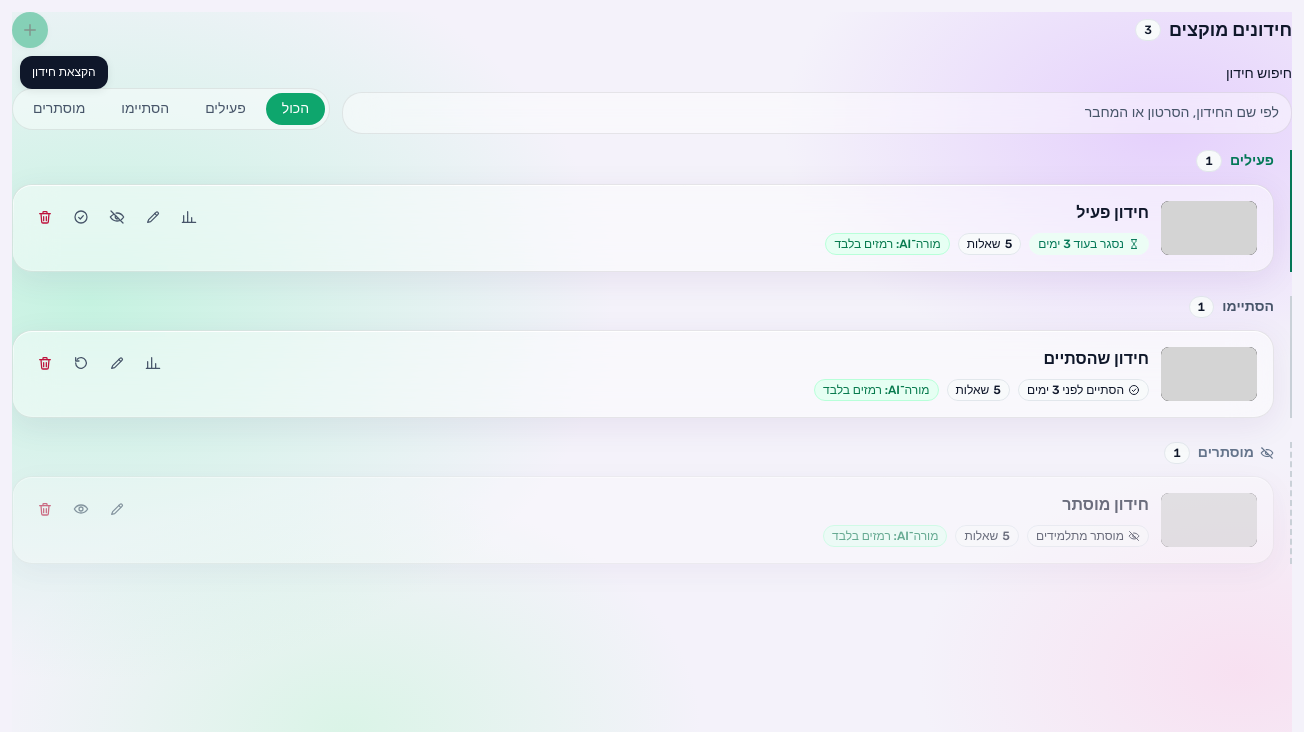
Test case: AssignedQuizzesSection search and filter › filters down to the hidden quizzes
The width and height of the screenshot is (1304, 732).
What coordinates should you click on to do the following:
click the radio button labelled "מוסתרים"
I would click on:
 (59, 109)
Its box is top-left (17, 93), bottom-right (101, 125).
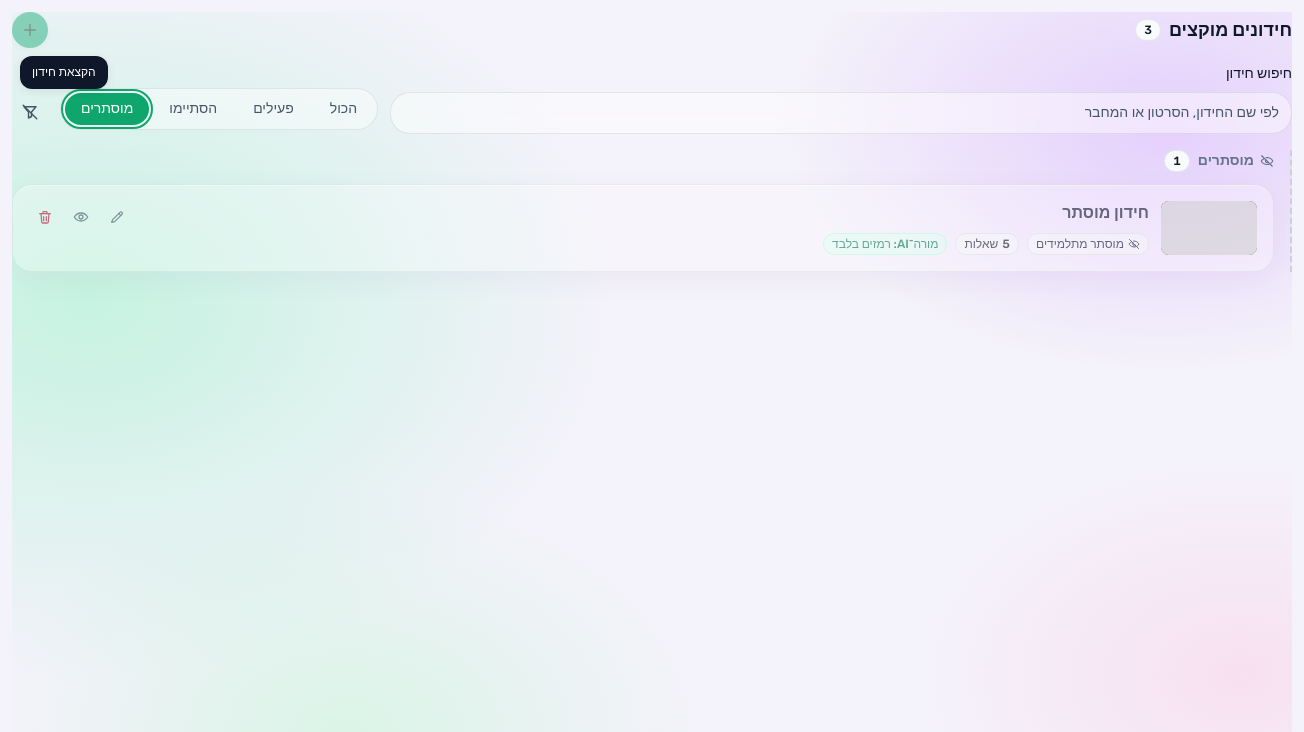
Expected: the heading "חידון מוסתר" is shown, top-left (1062, 203), bottom-right (1149, 222)
Expected: the heading "חידון פעיל" is gone
Expected: the heading "חידון שהסתיים" is gone
